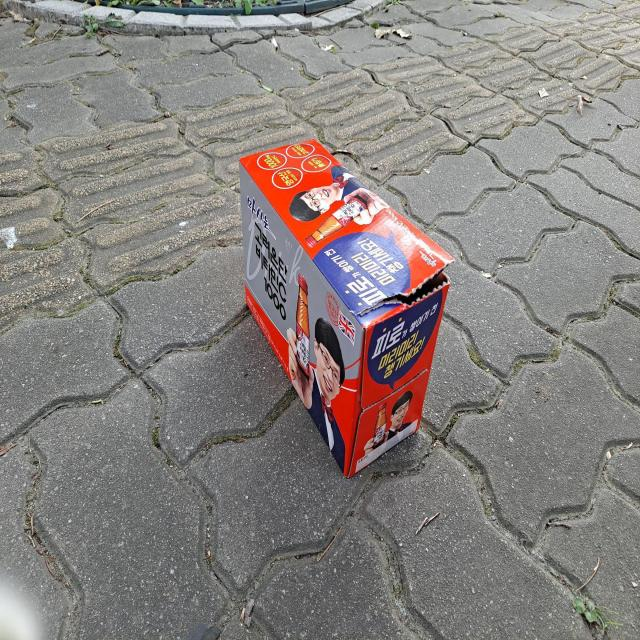paperpack: (240, 139, 454, 476)
